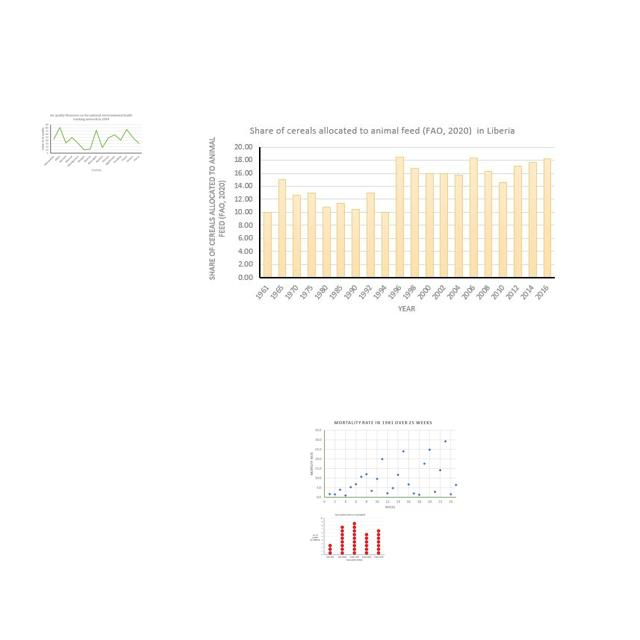Graph: (203, 118, 563, 318), (309, 419, 461, 511), (39, 112, 144, 173), (308, 512, 386, 563)
